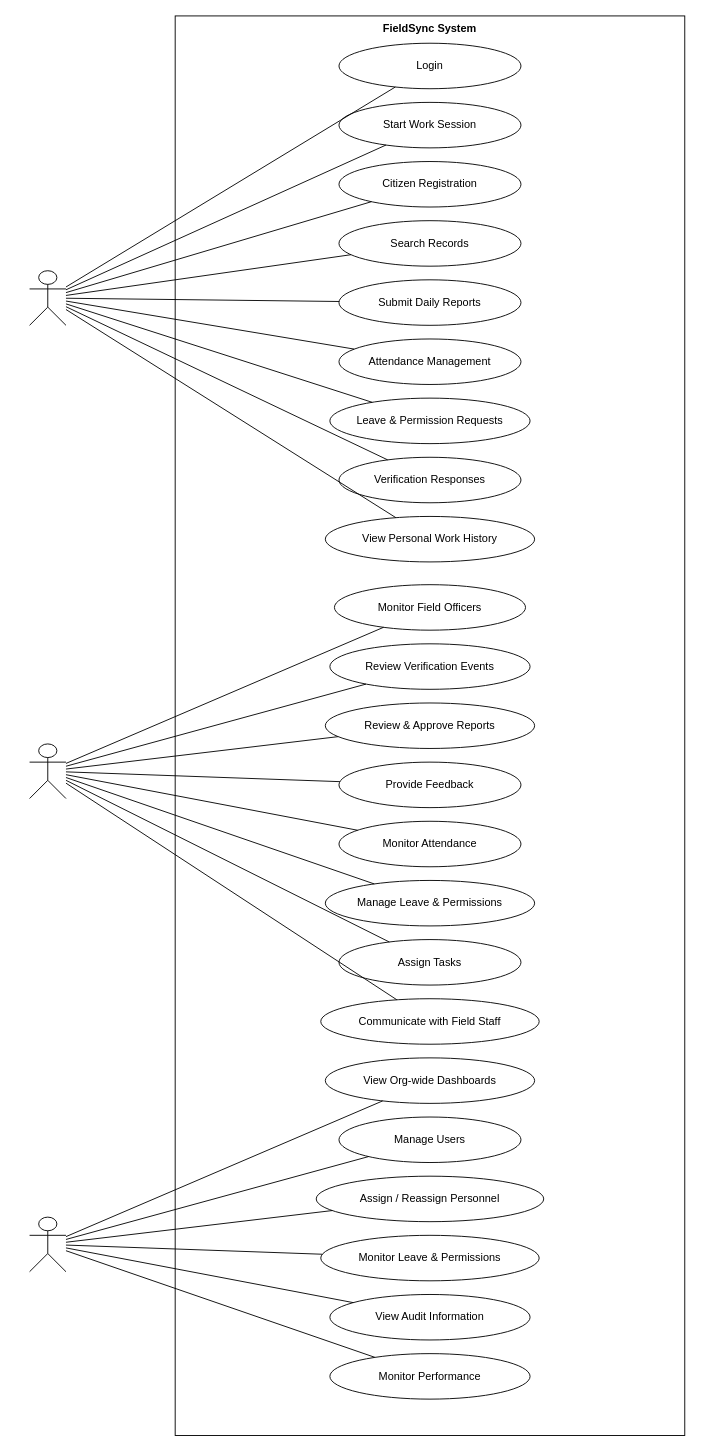
Image size: 701x1451. Some labels were removed from this diagram. Here are the shapes that lost their labels. From the top down, the centre of each, then its label:
point (47, 297): Field Officer
point (47, 771): Supervisor
point (47, 1244): Manager
